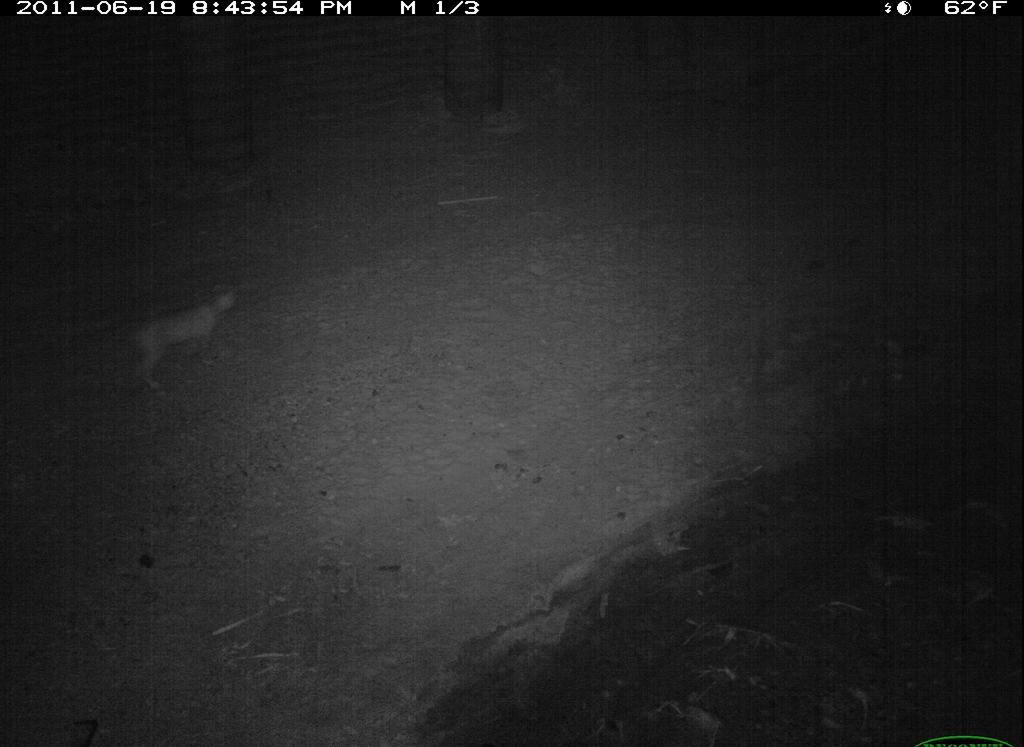bobcat: (113, 280, 250, 404)
